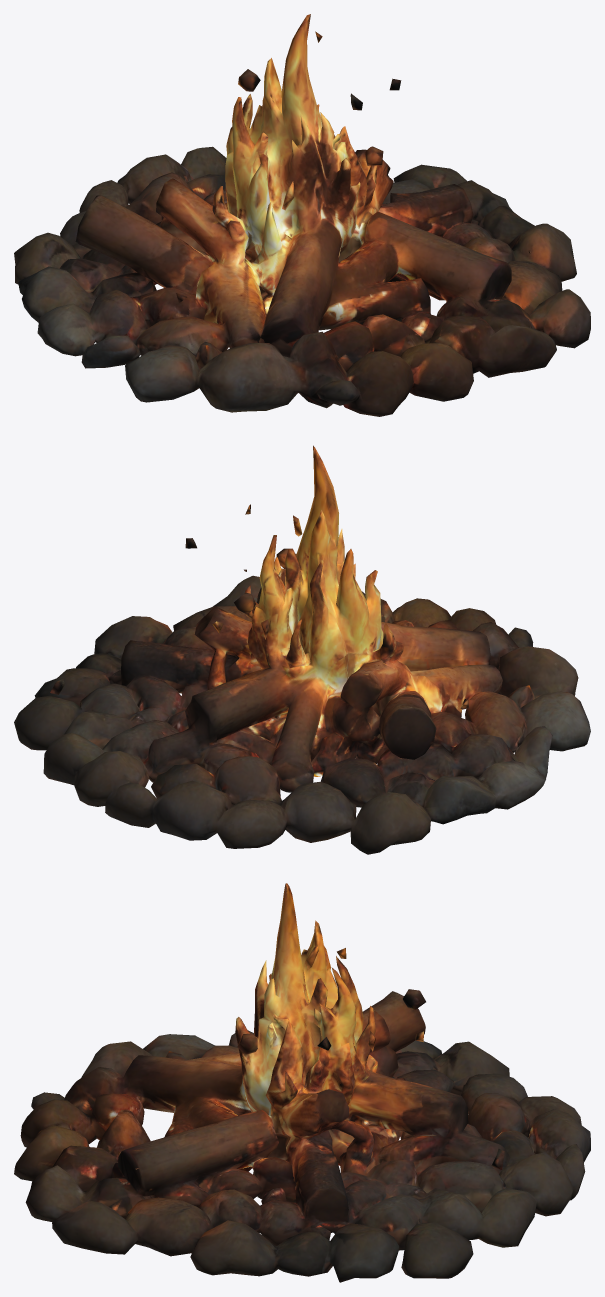
File: bonfire.fbx
3 views of the same model, one above another, from view 1: azimuth 30°, elevation 25°; view 2: azimuth 150°, elevation 25°; view 3: azimuth 270°, elevation 25° (orthographic). The views are drawn at different scales.
Parts seen in each view (by area): view 1: Mesh1_Mesh1.002; view 2: Mesh1_Mesh1.002; view 3: Mesh1_Mesh1.002.
Part boxes in pixels (<box>): Mesh1_Mesh1.002: <box>14,14,590,416</box>; Mesh1_Mesh1.002: <box>14,445,590,854</box>; Mesh1_Mesh1.002: <box>14,883,590,1282</box>.
Bounding box in the file's own units: 192 × 112 × 200.
